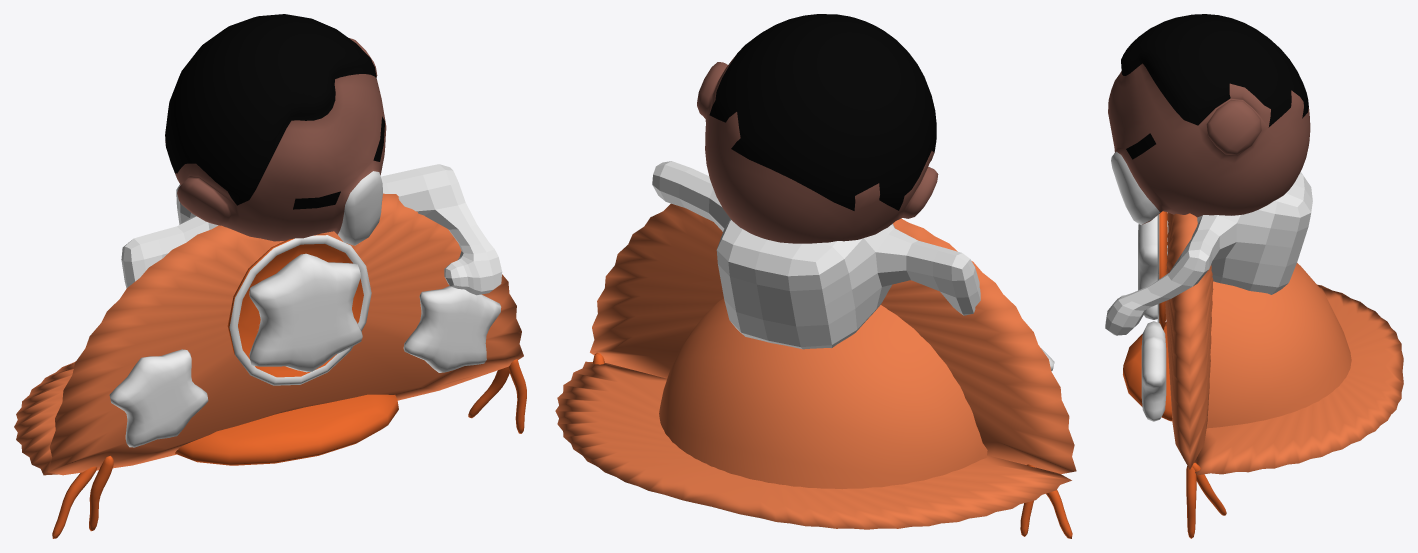
Rendered from naveZZZ 2.fbx.
3 views of the same model, side by side, from view 1: azimuth 30°, elevation 25°; view 2: azimuth 150°, elevation 25°; view 3: azimuth 270°, elevation 25° (orthographic). The views are drawn at different scales.
Parts seen in each view (by area): view 1: Nave; view 2: Nave; view 3: Nave.
Part boxes in pixels (x1=…): Nave: x1=14, y1=14, x2=526, y2=538; Nave: x1=555, y1=14, x2=1076, y2=538; Nave: x1=1105, y1=14, x2=1403, y2=538.
Size of the model in its own units: 190 by 175 by 115.
